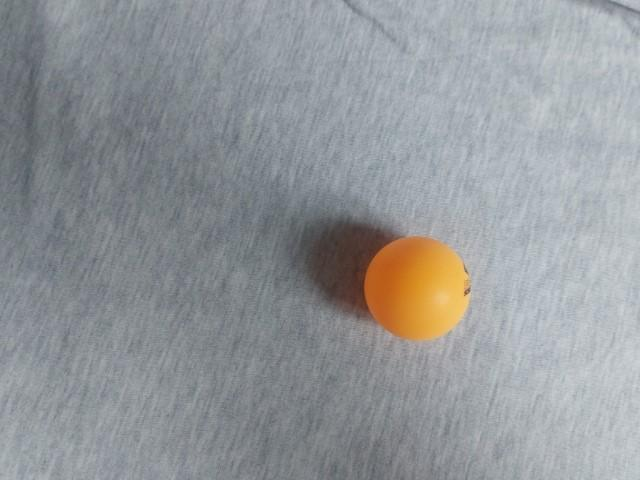oball: (158, 133, 284, 252)
